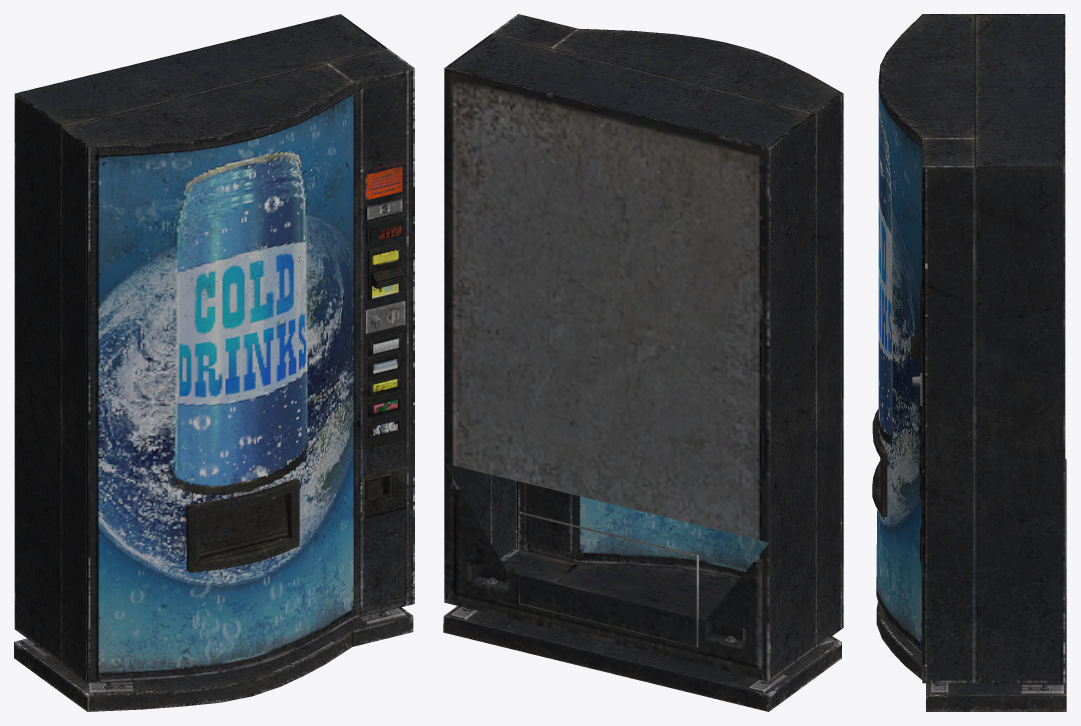
The model's file is sm24_002_vendingmachine02a.fbx.
The picture shows the model from 3 angles, left to right: view 1: azimuth 30°, elevation 25°; view 2: azimuth 150°, elevation 25°; view 3: azimuth 270°, elevation 25°; orthographic projection. The views are drawn at different scales.
Visible parts, largest first — view 1: LOD_1_Group_8_Sub_1__sm24_002_VendingMachine02A_B_Mat, LOD_1_Group_1_Sub_1__sm24_002_VendingMachine02A_A_Mat, LOD_1_Group_2_Sub_1__sm24_002_VendingMachine02A_A_Mat; view 2: LOD_1_Group_1_Sub_1__sm24_002_VendingMachine02A_A_Mat, LOD_1_Group_8_Sub_1__sm24_002_VendingMachine02A_B_Mat; view 3: LOD_1_Group_1_Sub_1__sm24_002_VendingMachine02A_A_Mat, LOD_1_Group_8_Sub_1__sm24_002_VendingMachine02A_B_Mat.
Part boxes in pixels (x1,y1,x2,y2): LOD_1_Group_8_Sub_1__sm24_002_VendingMachine02A_B_Mat: (98,93,354,672); LOD_1_Group_1_Sub_1__sm24_002_VendingMachine02A_A_Mat: (14,14,414,711); LOD_1_Group_2_Sub_1__sm24_002_VendingMachine02A_A_Mat: (199,495,288,558); LOD_1_Group_1_Sub_1__sm24_002_VendingMachine02A_A_Mat: (443,14,843,711); LOD_1_Group_8_Sub_1__sm24_002_VendingMachine02A_B_Mat: (579,496,769,571); LOD_1_Group_1_Sub_1__sm24_002_VendingMachine02A_A_Mat: (872,14,1066,711); LOD_1_Group_8_Sub_1__sm24_002_VendingMachine02A_B_Mat: (876,90,922,644).
Size of the model in its own units: 1.21 by 2.01 by 0.6508.
